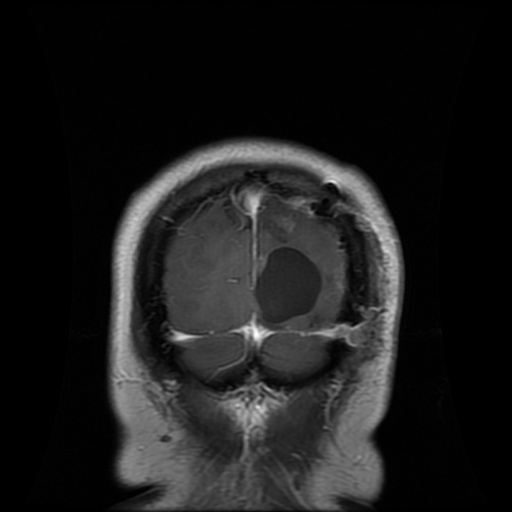glioma: (255, 245, 324, 322)
